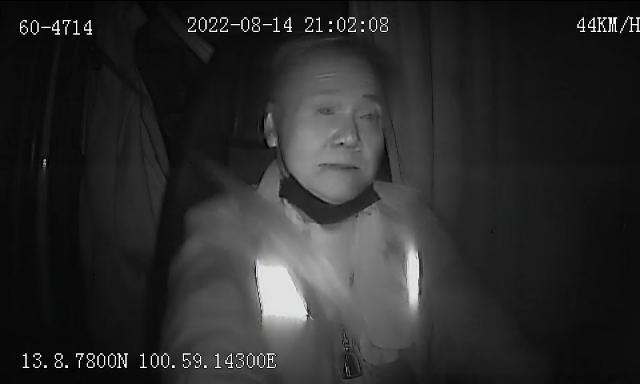SafeDriving: (352, 99, 386, 131), (310, 96, 344, 122)
Seatbelt: (192, 151, 364, 345)
